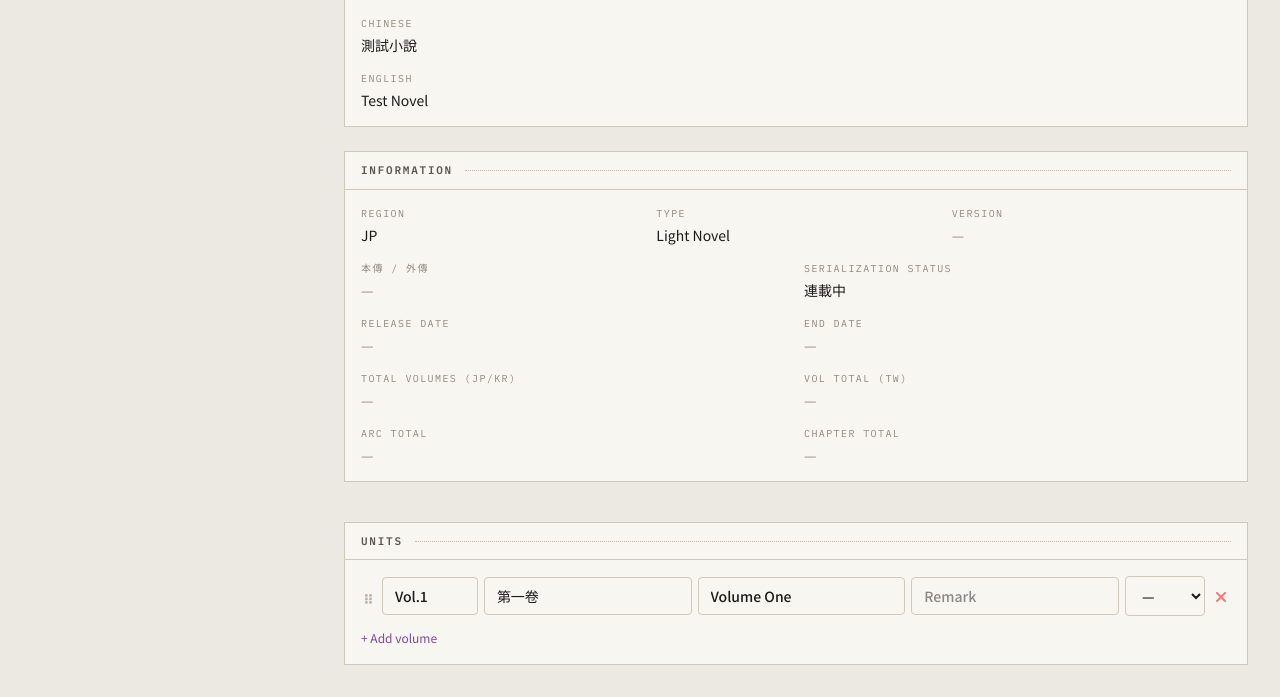
Scenario: Novel detail page — units › admin editing a unit and saving PATCHes the full units array and applies the server response
The width and height of the screenshot is (1280, 697).
(page scrolled)
Type "Limited edition" into the field with placeholder "Remark" at (1015, 596), box 911,577 -> 1119,615
(page scrolled)
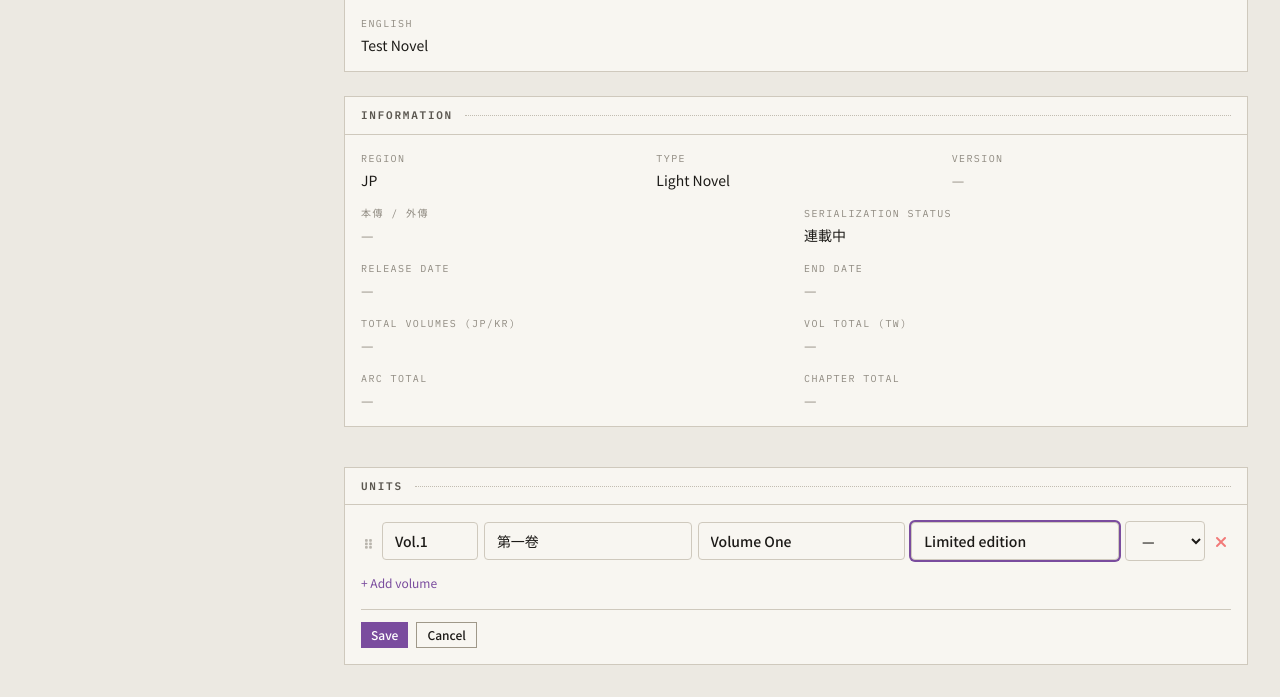
Click the button "Save" at (385, 635), box 361,622 -> 408,648
(page scrolled)
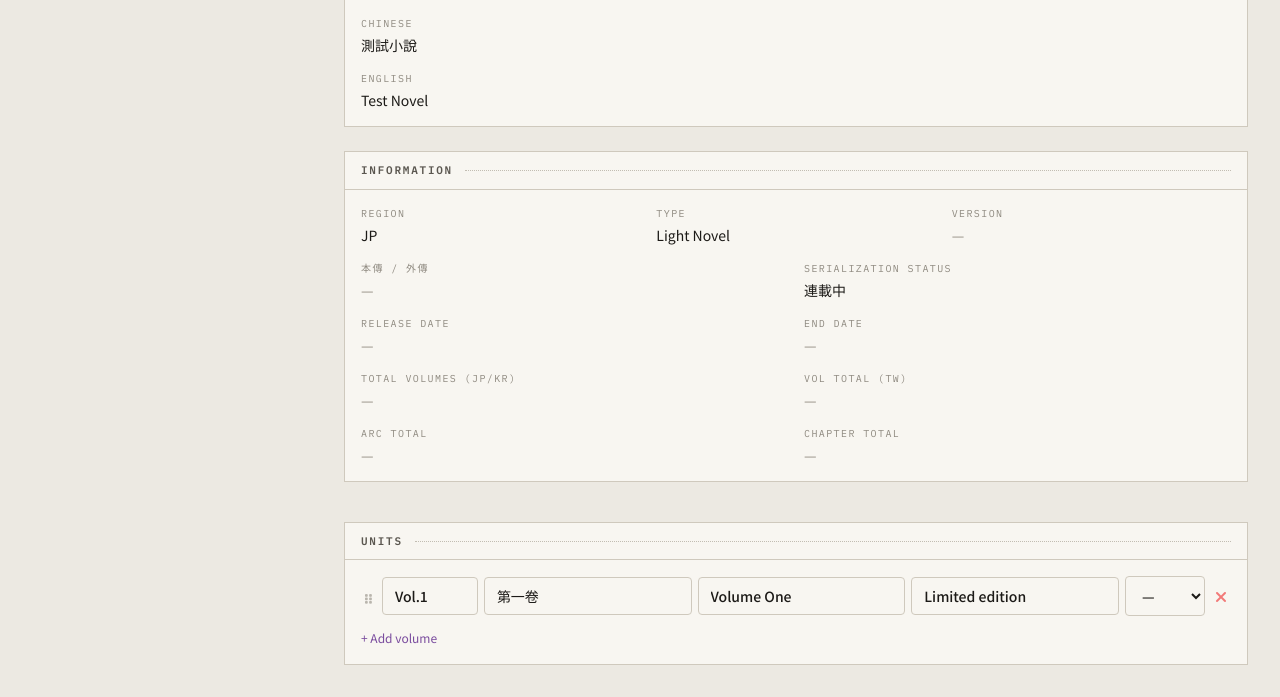
expect the button "Save" is gone: met
